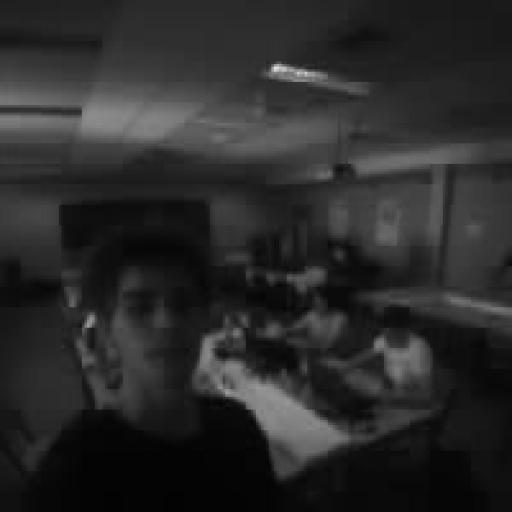human: (29, 228, 279, 511), (344, 305, 435, 404), (285, 287, 348, 353)
